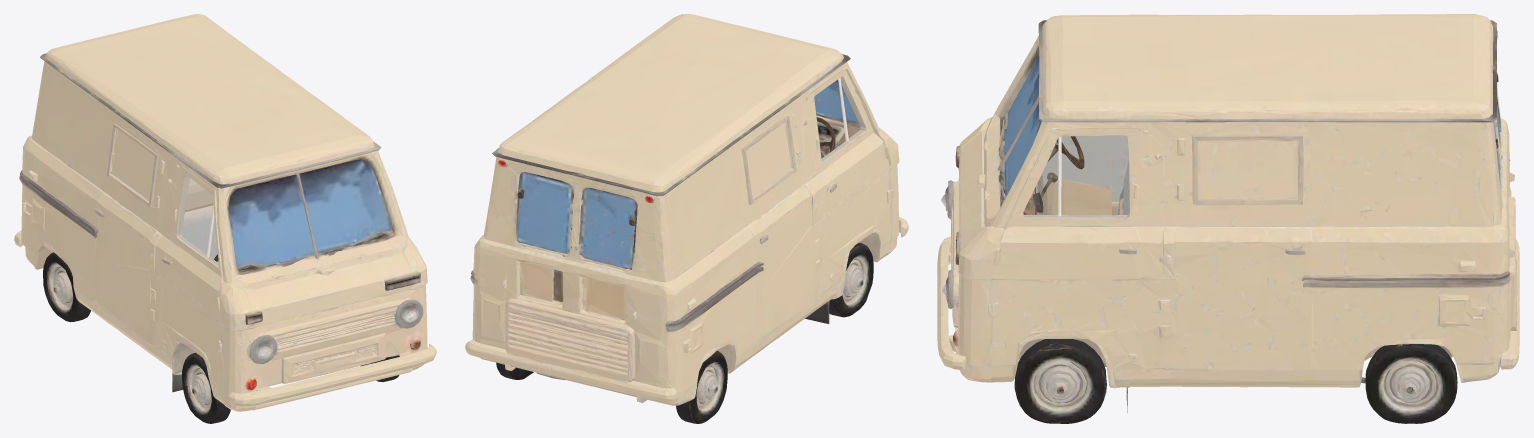
The model's file is traffic-van.glb.
3 renders of one model, left to right at view 1: azimuth 30°, elevation 25°; view 2: azimuth 150°, elevation 25°; view 3: azimuth 270°, elevation 25°, orthographic. The views are drawn at different scales.
Parts seen in each view (by area): view 1: geometry_0; view 2: geometry_0; view 3: geometry_0.
Part boxes in pixels (x1=…): geometry_0: x1=14, y1=14, x2=436, y2=423; geometry_0: x1=465, y1=14, x2=908, y2=423; geometry_0: x1=937, y1=14, x2=1519, y2=423.
Bounding box in the file's own units: 0.5144 × 0.589 × 1.
1 material, 1 textured.
